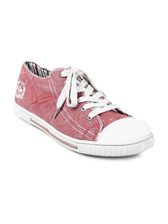shoesd: (6, 57, 159, 158)
